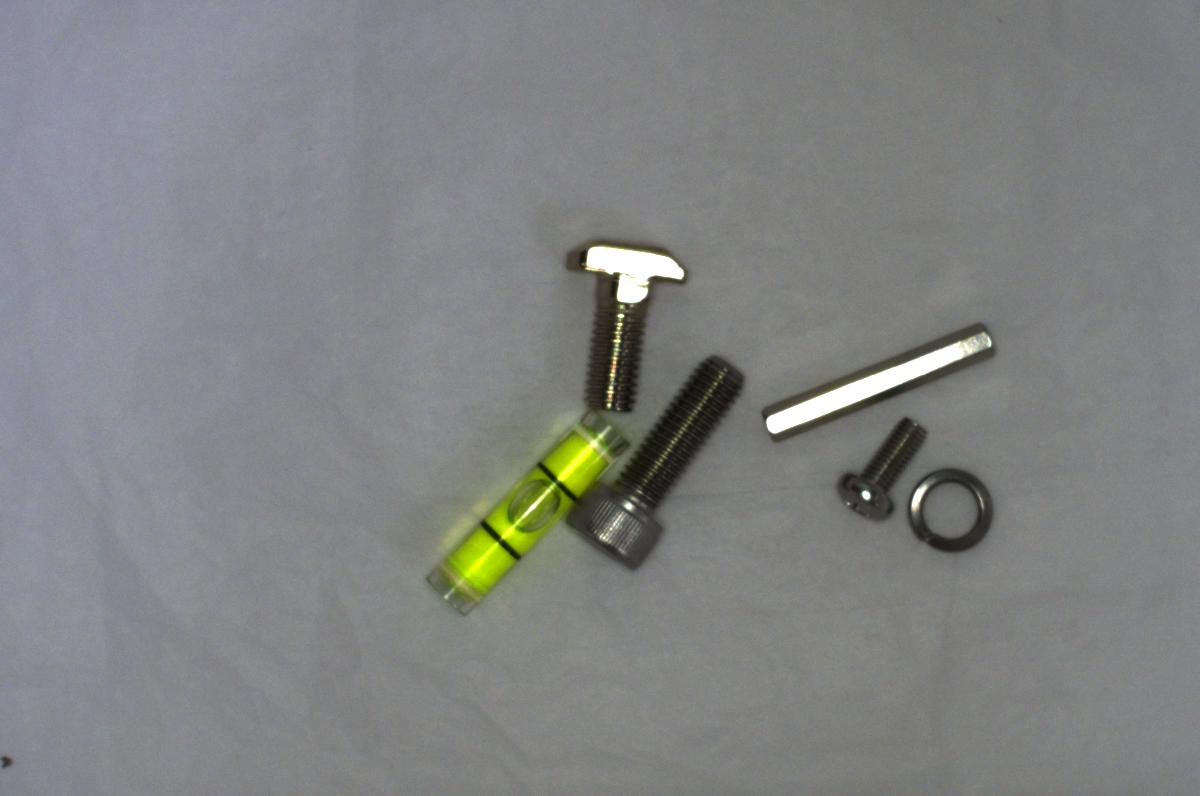Double hexagonal column: (750, 318, 1002, 438)
Hexagon screw: (559, 347, 747, 569)
Horizontal bubble: (431, 401, 625, 618)
Round head screw: (834, 414, 925, 520)
Spring washer: (897, 461, 1000, 556)
T-shaped screw: (553, 236, 692, 408)
